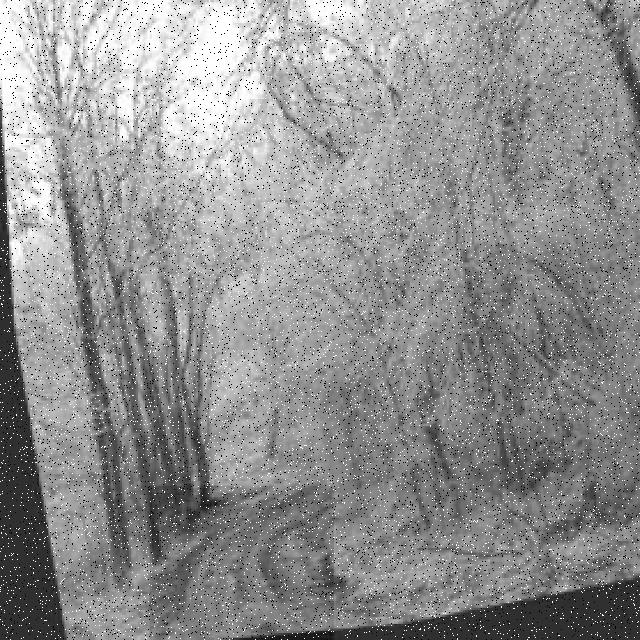ice-road: (153, 486, 334, 640)
